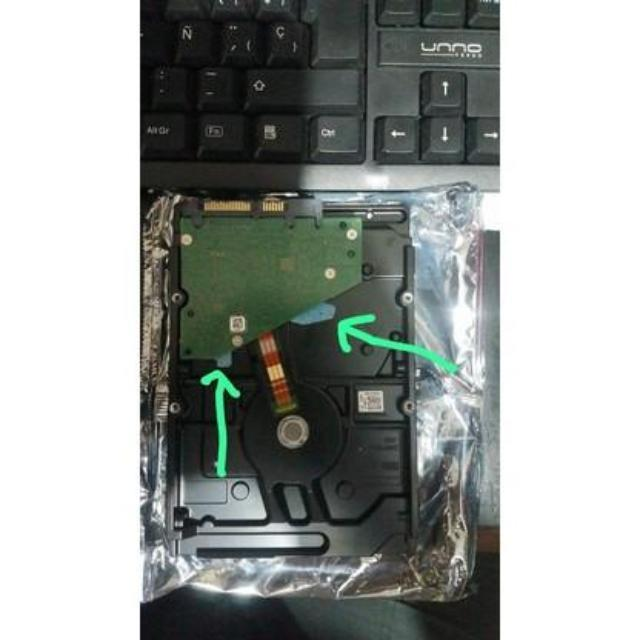DISK: (157, 203, 446, 568)
